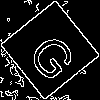G: (25, 25, 86, 85)
